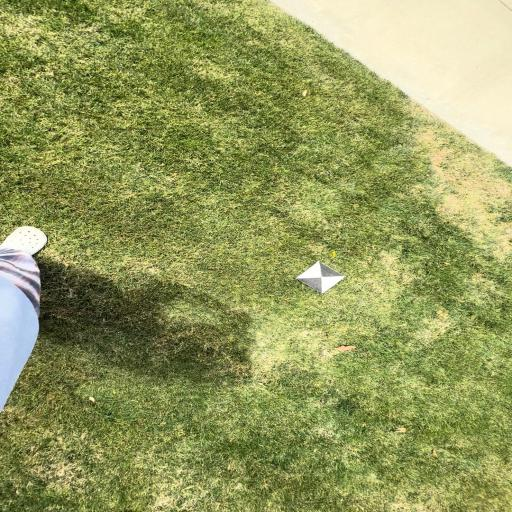target: (296, 262, 345, 292)
